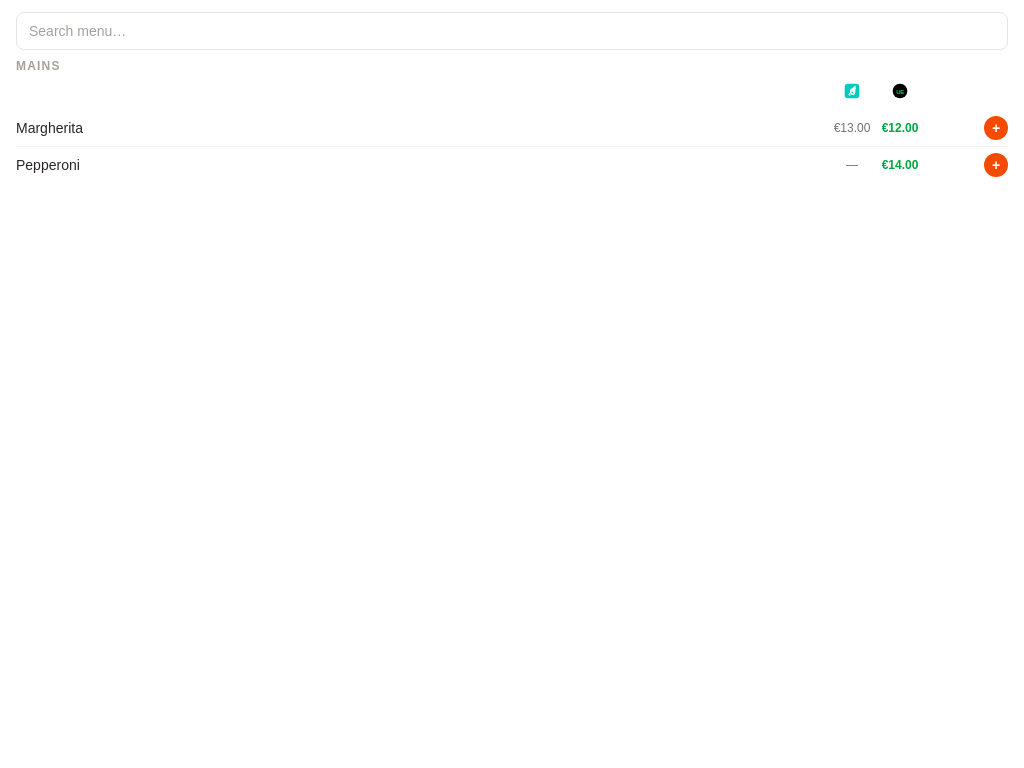
Test case: MenuBrowser › DishModal only shows prices for platforms where price is not null
The width and height of the screenshot is (1024, 768).
Pepperoni only has uber_eats price — click it
Click the button "Pepperoni" at (48, 165), box [16,155,824,175]
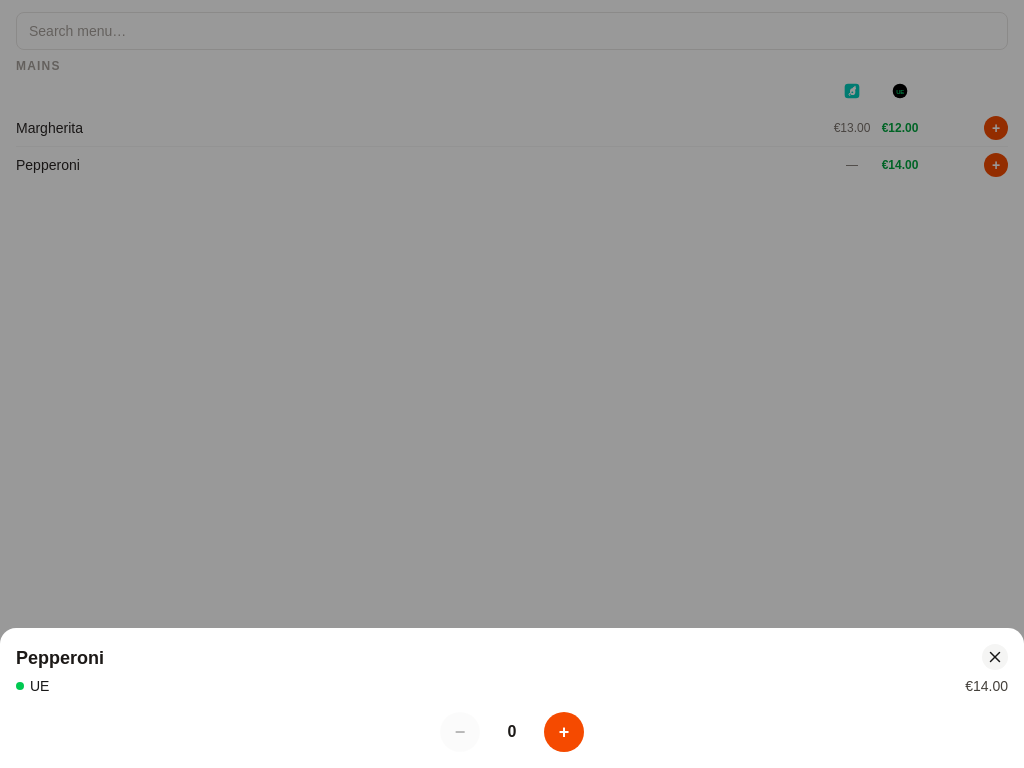
Check: the dialog is shown
Check: the number of elements with class "justify-between" is 1, box [16,676,1008,696]
